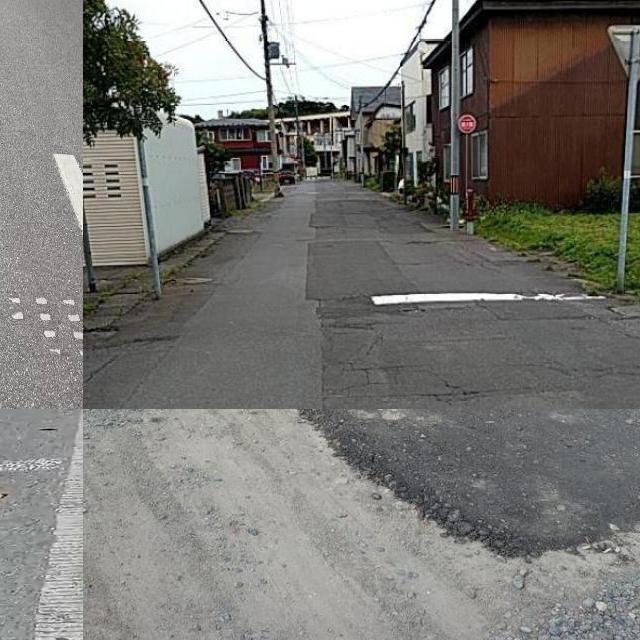Sambungan: (302, 409, 640, 567), (115, 194, 320, 409), (35, 414, 83, 640)
